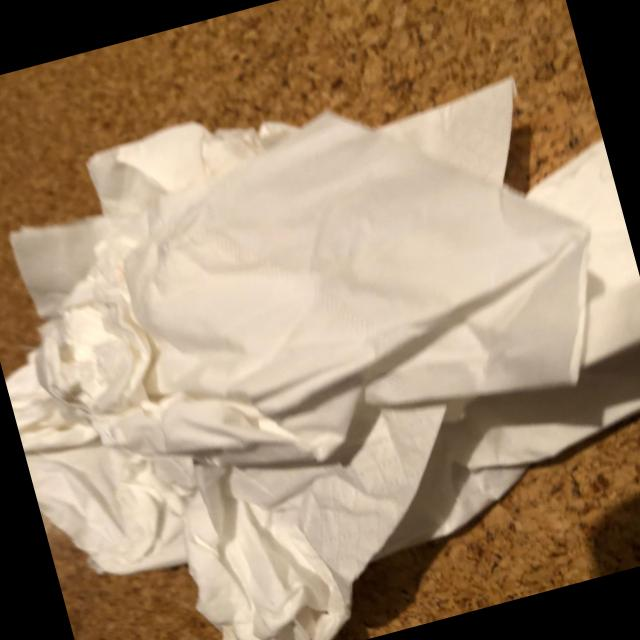organic waste: (0, 50, 640, 517), (0, 242, 494, 640), (264, 132, 640, 571)
